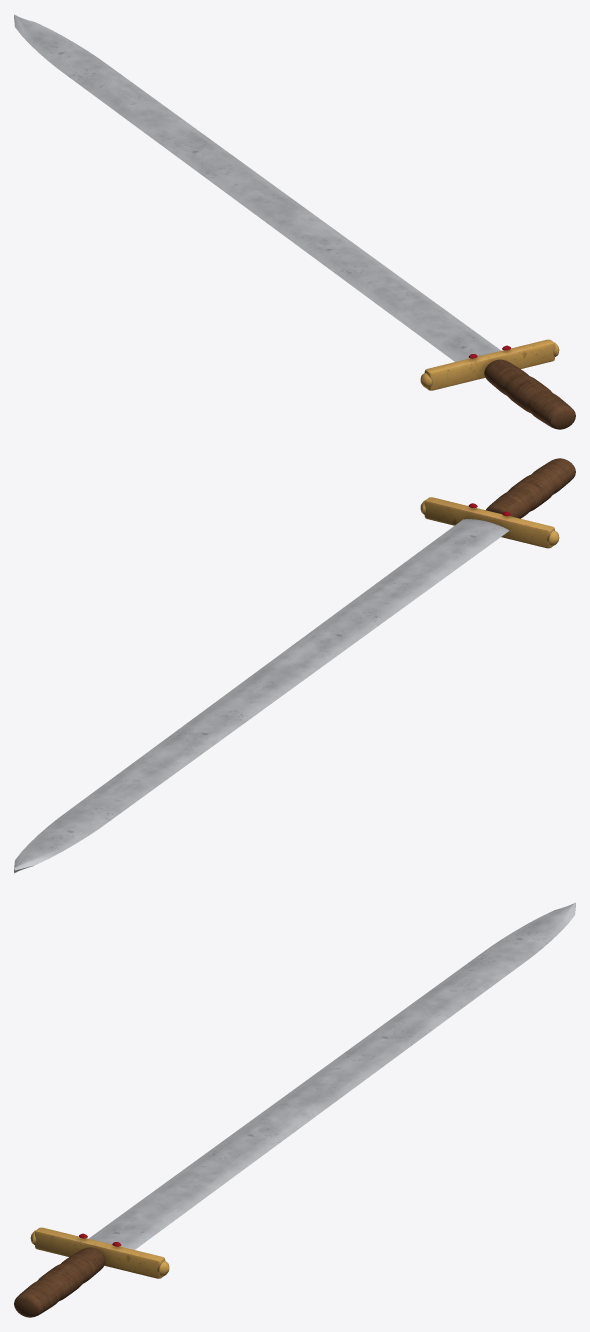
The model's file is hun_long_sword.glb.
3 views of the same model, one above another, from view 1: azimuth 30°, elevation 25°; view 2: azimuth 150°, elevation 25°; view 3: azimuth 330°, elevation 25° (orthographic).
Parts seen in each view (by area): view 1: hun_long_sword; view 2: hun_long_sword; view 3: hun_long_sword.
Part boxes in pixels (x1,y1,x2,y2): hun_long_sword: (14, 14, 575, 429); hun_long_sword: (14, 458, 575, 873); hun_long_sword: (14, 902, 575, 1317).
Bounding box in the file's own units: 0.1477 × 0.0284 × 1.03.
Materials: 1 (1 with a texture image).
